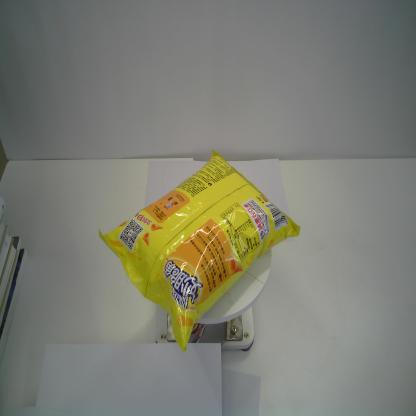Puffed Food: (97, 149, 301, 352)
